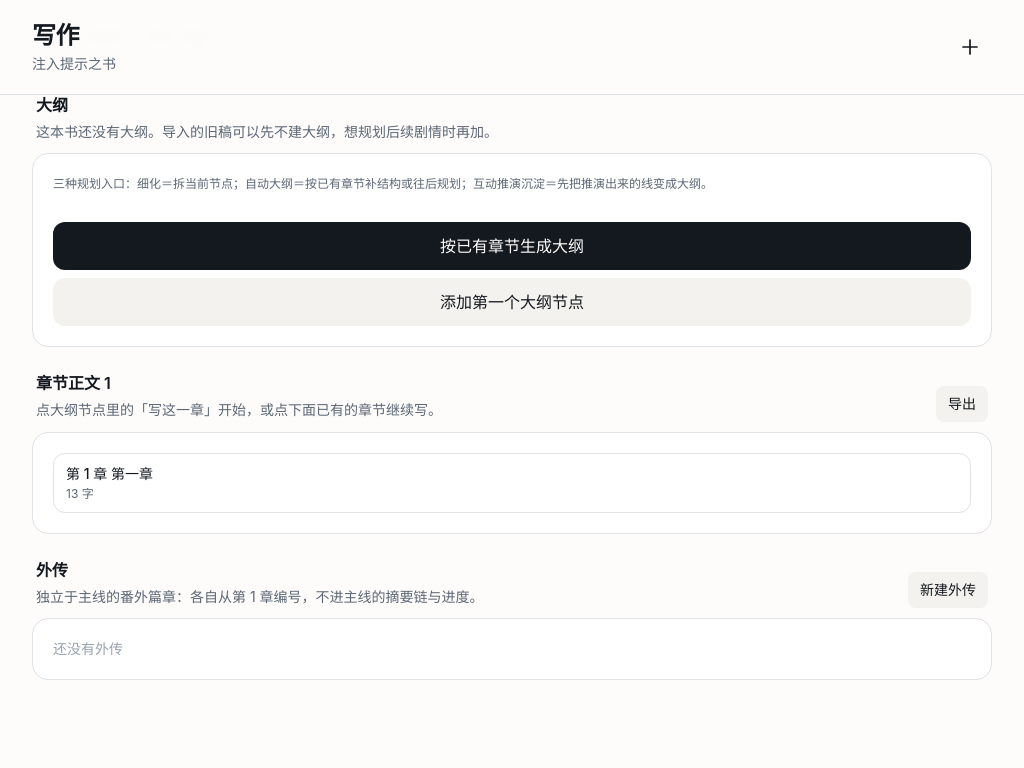
Scenario: M4.1 · 注入清单锚点说明显隐 › 无锚点（第一章）：不显示锚点行与说明
(page scrolled)
Click the button with aria-label "继续写第 1 章": x=130, y=473 [53,452,971,512]
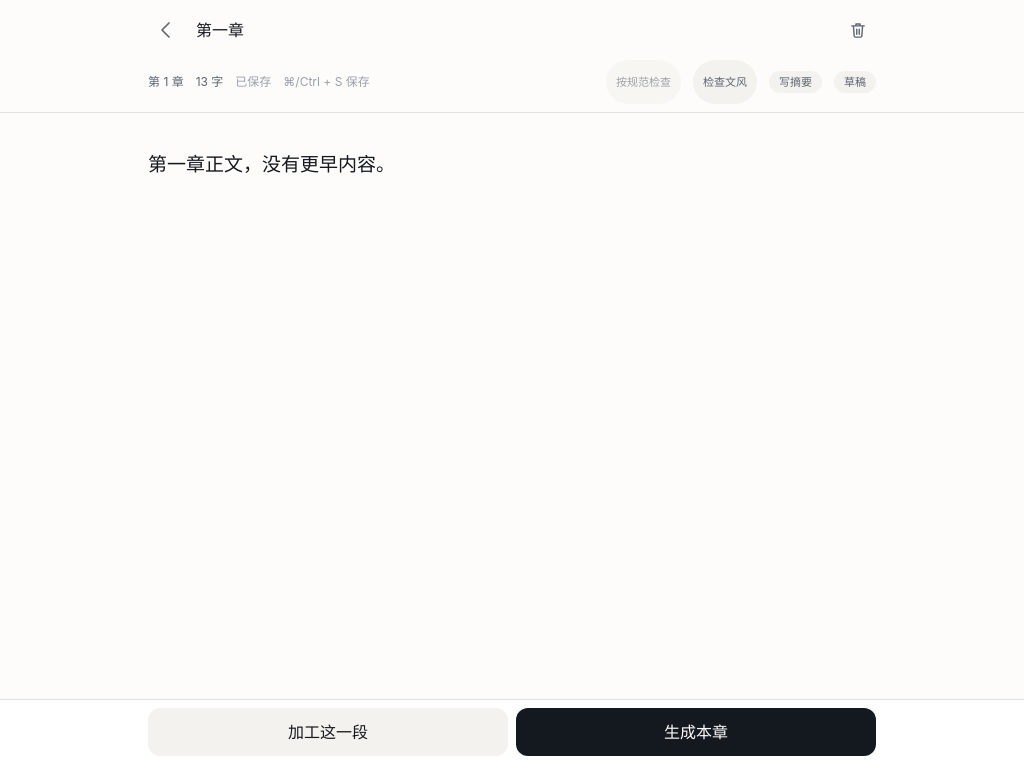
Now the text box named "章节正文" is shown, box [144,113,880,699]
Click the button "生成本章": x=696, y=732 [516,708,876,756]
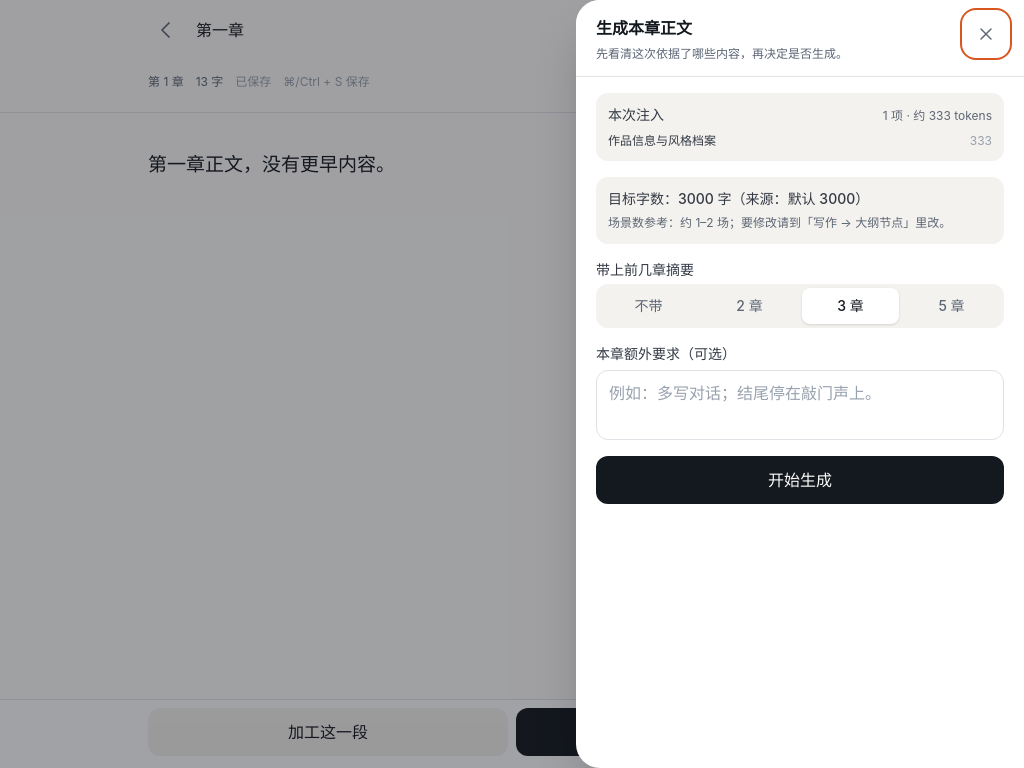
Now the text "本次注入" is shown, box [608,104,664,124]
